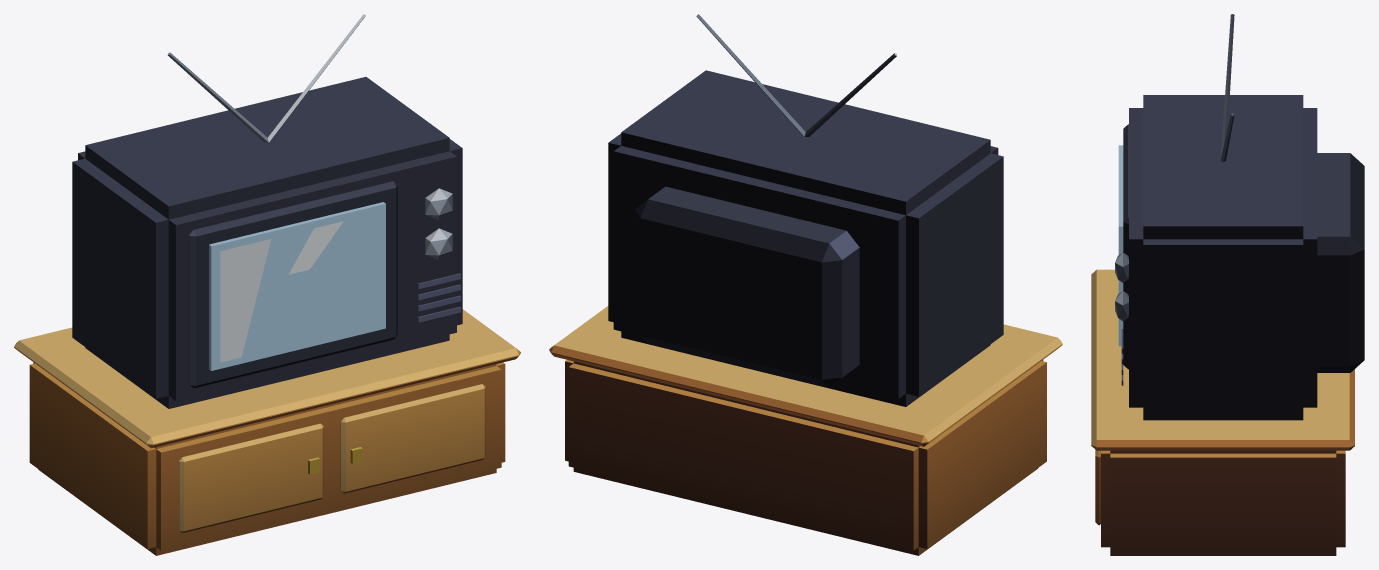
File: tv_crt.glb
3 renders of one model, left to right at view 1: azimuth 30°, elevation 25°; view 2: azimuth 150°, elevation 25°; view 3: azimuth 270°, elevation 25°, orthographic. The views are drawn at different scales.
Visible parts, largest first — view 1: tv_crt; view 2: tv_crt; view 3: tv_crt.
Part boxes in pixels (<box>): tv_crt: <box>14,14,520,555</box>; tv_crt: <box>549,14,1062,555</box>; tv_crt: <box>1091,14,1364,555</box>.
Size of the model in its own units: 0.88 by 0.9827 by 0.58.
